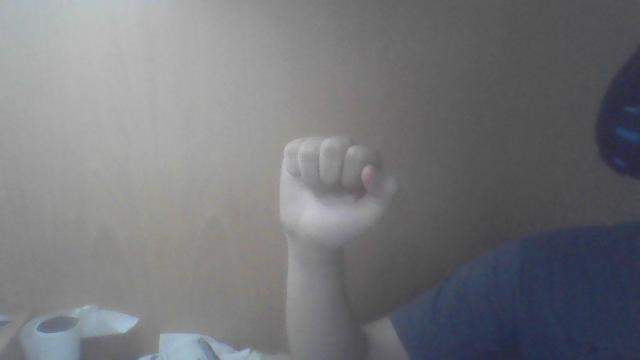forward: (278, 134, 398, 248)
